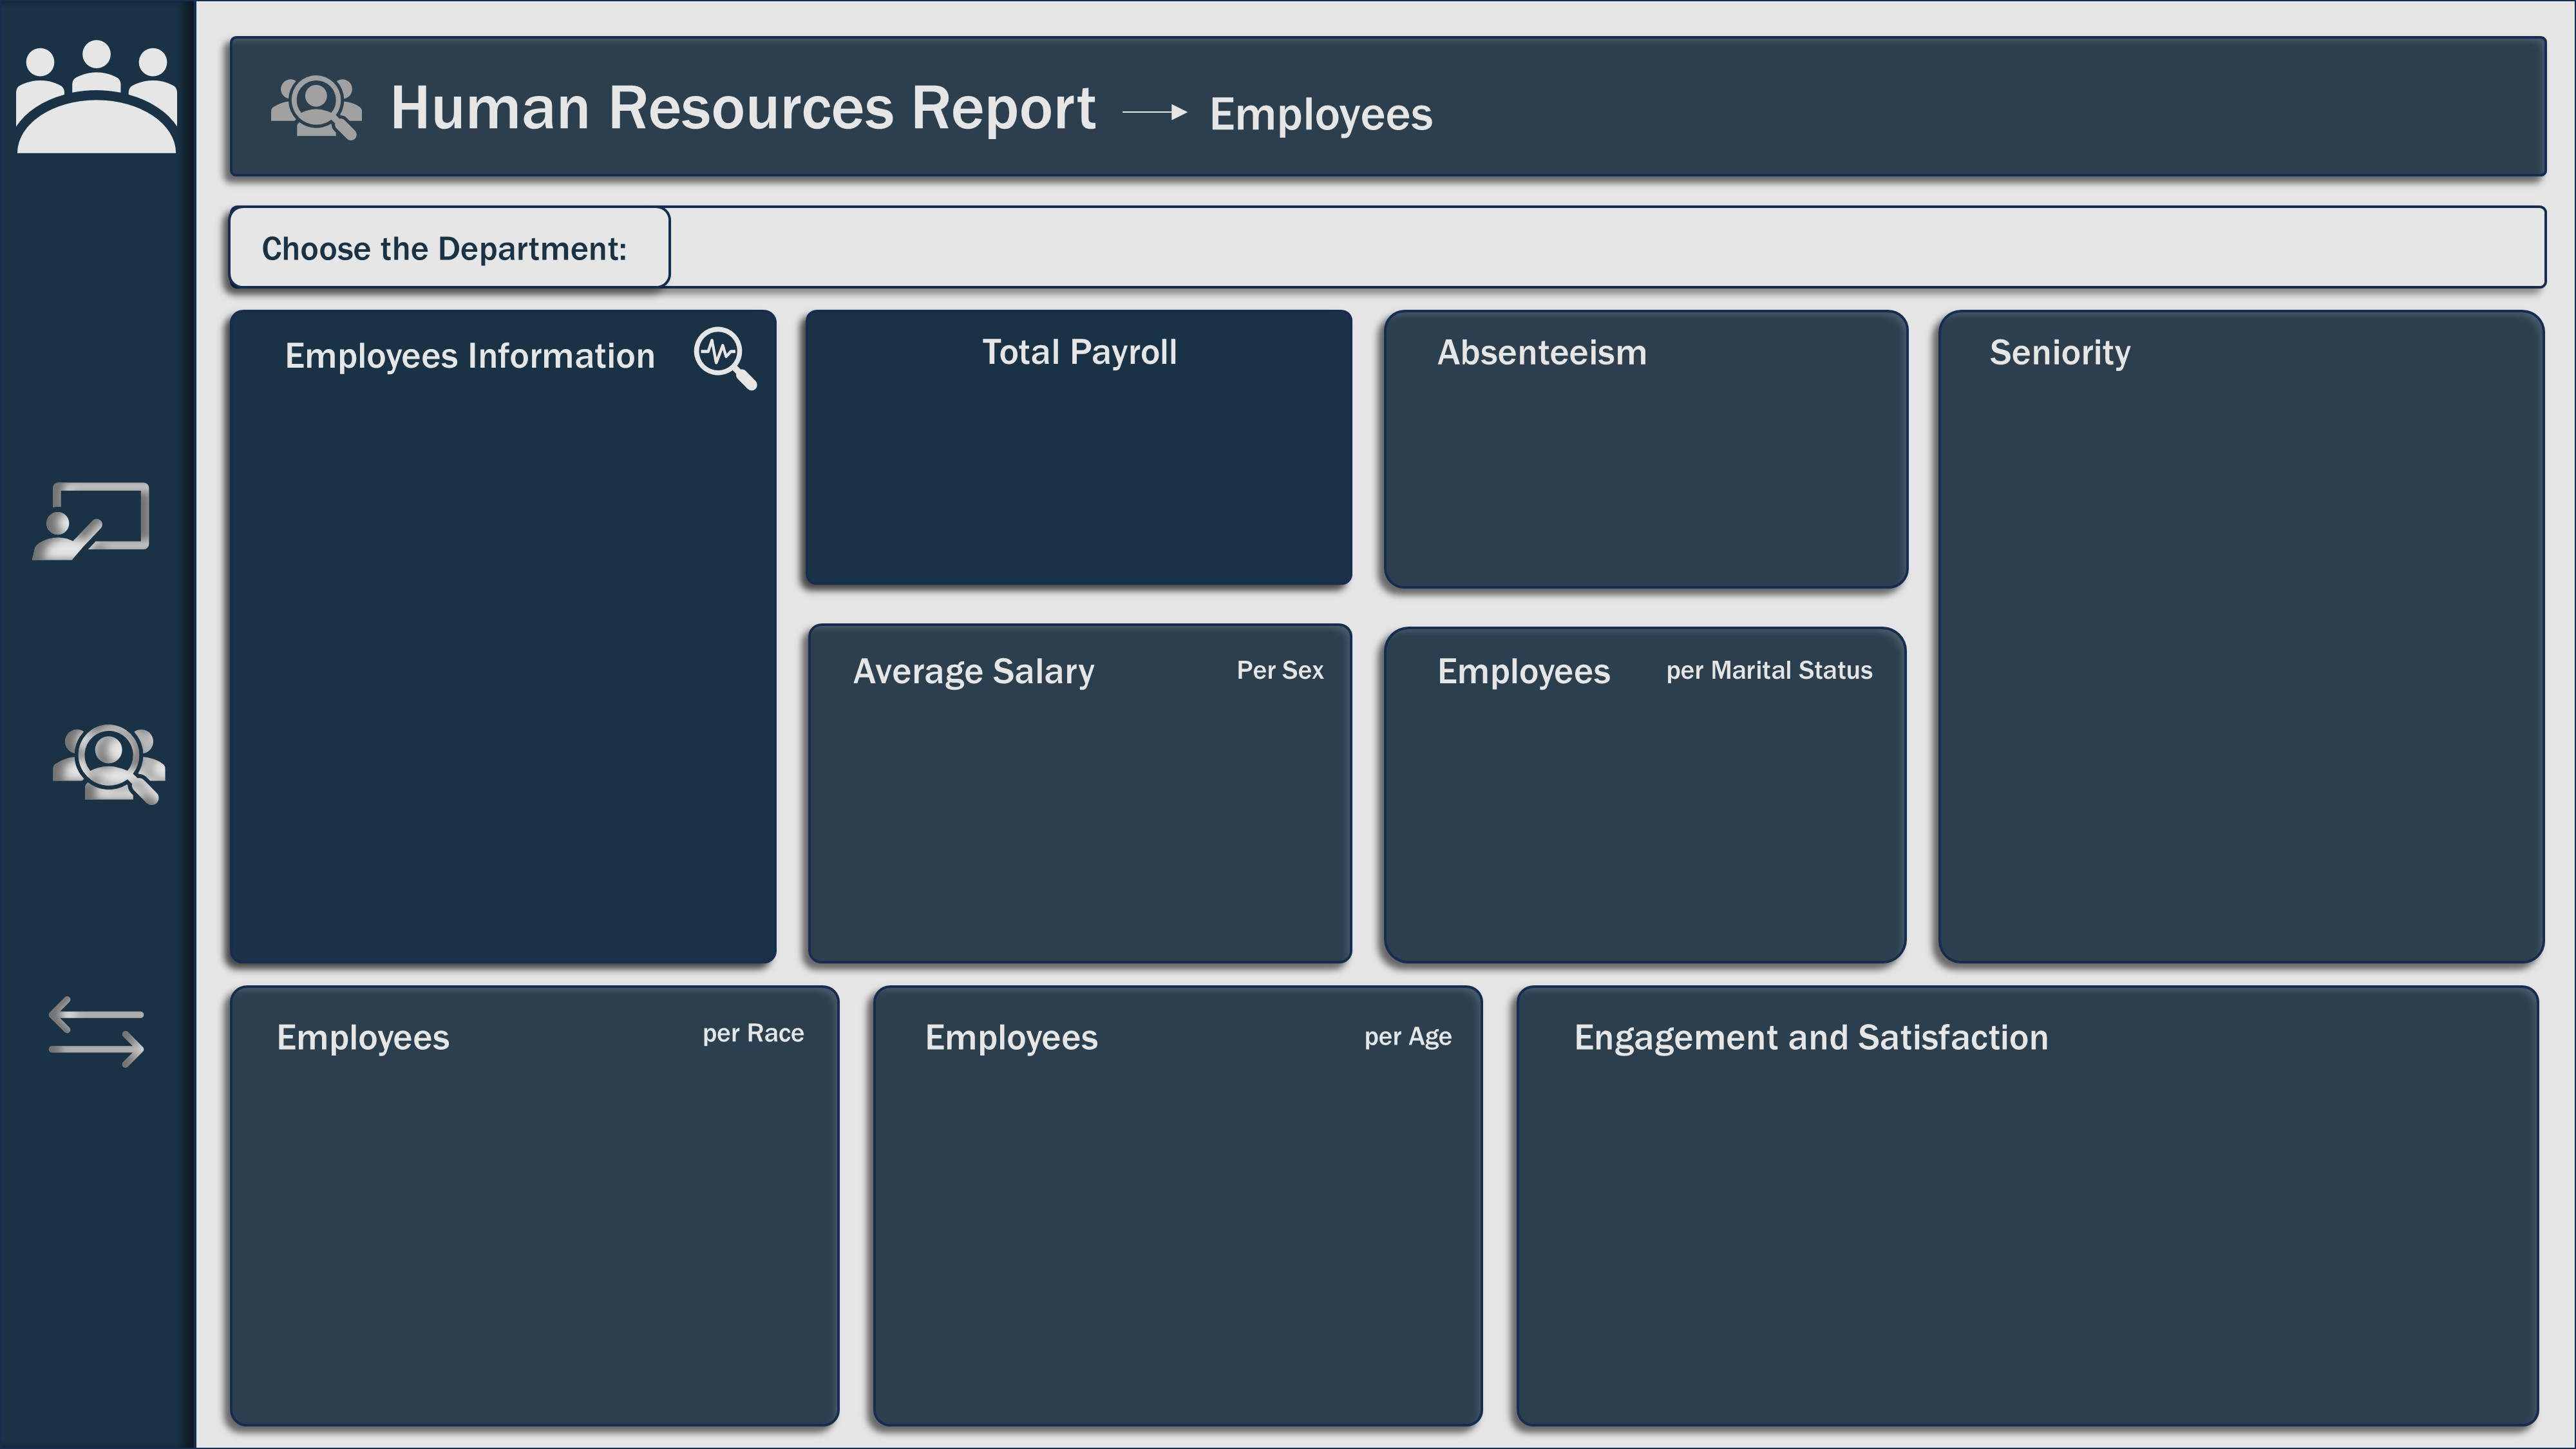

This screenshot's page, from the dashboard's own definition file:
{"tool":"powerbi","page":{"name":"Funcionários","canvas":[1280,720],"ordinal":1},"visuals":[{"type":"slicer","fields":{"Values":["dContratacoes.Department"]},"box":[333.8,102.6,928.8,43.5],"z":0},{"type":"card","fields":{"Values":["Sum(dContratacoes.SalaryperMonth)"]},"box":[410.2,180.9,248.6,90],"z":1000},{"type":"barChart","fields":{"Y":["Medidas.mediaSalarialFuncionariosAtivos"],"Category":["dContratacoes.Sex"]},"box":[414.1,329.9,240.9,136.4],"z":2000},{"type":"card","fields":{"Values":["Medidas.absenteismoGeral"]},"box":[737.2,186.7,156.7,64.8],"z":3000},{"type":"barChart","fields":{"Category":["dContratacoes.MaritalDesc"],"Y":["Medidas.funcionariosAtivos"]},"box":[694.7,336.7,241.9,144.2],"z":4000},{"type":"multiRowCard","fields":{"Values":["Medidas.funcionariosAtivos","Sum(dContratacoes.SalaryperMonth)","dContratacoes.Sex"]},"box":[136.7,194.7,225.8,275.5],"z":5000},{"type":"scatterChart","fields":{"X":["Medidas.engajamento"],"Category":["dContratacoes.Department"],"Series":["dContratacoes.Department"],"Size":["Medidas.funcionariosAtivos"],"Y":["Medidas.satisfacao"]},"box":[761.4,517.6,501.2,185.8],"z":6000},{"type":"barChart","fields":{"Category":["dContratacoes.AgeRange"],"Y":["Medidas.funcionariosAtivos"]},"box":[446,526.3,286.4,177.1],"z":7000},{"type":"clusteredBarChart","fields":{"Category":["dContratacoes.Seniority"],"Y":["Medidas.funcionariosAtivos"],"Series":["dContratacoes.Sex"]},"box":[968.5,186.7,294.1,291.2],"z":8000},{"type":"barChart","fields":{"Category":["dContratacoes.RaceDesc"],"Y":["Medidas.funcionariosAtivos"]},"box":[112.2,510.8,298,201.2],"z":9000},{"type":"image","box":[6.8,221.6,77.4,73.5],"z":10000},{"type":"image","box":[16.4,479.9,62.9,66.8],"z":11000},{"type":"card","fields":{"Values":["Medidas.metaAbsenteismo"]},"box":[810.7,251.5,60,22.3],"z":12000},{"type":"textbox","box":[767.2,247.7,63.9,30],"z":13000}]}

Visuals, with their boxes on the page's 1280x720 design canvas (x1, y1, x2, y2). These are canvas units, not pixel positions in the 2576x1449 screenshot, which may show the page scaled, cropped or inside an application window:
slicer - dContratacoes.Department: box=[334, 103, 1263, 146]
card - Sum(dContratacoes.SalaryperMonth): box=[410, 181, 659, 271]
barChart - Medidas.mediaSalarialFuncionariosAtivos x dContratacoes.Sex: box=[414, 330, 655, 466]
card - Medidas.absenteismoGeral: box=[737, 187, 894, 252]
barChart - dContratacoes.MaritalDesc x Medidas.funcionariosAtivos: box=[695, 337, 937, 481]
multiRowCard - Medidas.funcionariosAtivos x Sum(dContratacoes.SalaryperMonth): box=[137, 195, 362, 470]
scatterChart - Medidas.engajamento x dContratacoes.Department: box=[761, 518, 1263, 703]
barChart - dContratacoes.AgeRange x Medidas.funcionariosAtivos: box=[446, 526, 732, 703]
clusteredBarChart - dContratacoes.Seniority x Medidas.funcionariosAtivos: box=[968, 187, 1263, 478]
barChart - dContratacoes.RaceDesc x Medidas.funcionariosAtivos: box=[112, 511, 410, 712]
image: box=[7, 222, 84, 295]
image: box=[16, 480, 79, 547]
card - Medidas.metaAbsenteismo: box=[811, 252, 871, 274]
textbox: box=[767, 248, 831, 278]
